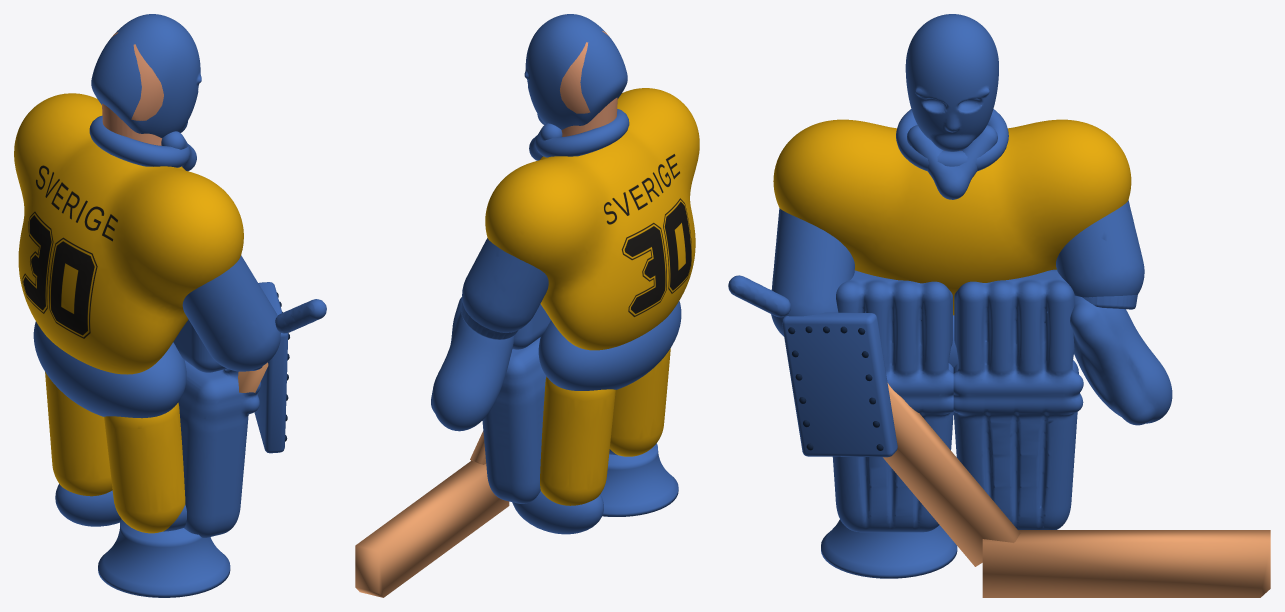
File: goalie_SWE.glb
3 renders of one model, left to right at view 1: azimuth 30°, elevation 25°; view 2: azimuth 150°, elevation 25°; view 3: azimuth 270°, elevation 25°, orthographic. The views are drawn at different scales.
Parts seen in each view (by area): view 1: Goalie.SWE, Print.goalie.SWE; view 2: Goalie.SWE, Print.goalie.SWE; view 3: Goalie.SWE.
Part boxes in pixels (x1,y1,x2,y2): Goalie.SWE: (14, 14, 326, 597); Print.goalie.SWE: (22, 165, 117, 338); Goalie.SWE: (355, 14, 699, 597); Print.goalie.SWE: (604, 154, 691, 316); Goalie.SWE: (728, 14, 1270, 597).
Bounding box in the file's own units: 0.0207 × 0.054 × 0.049.
6 materials, 1 textured.
